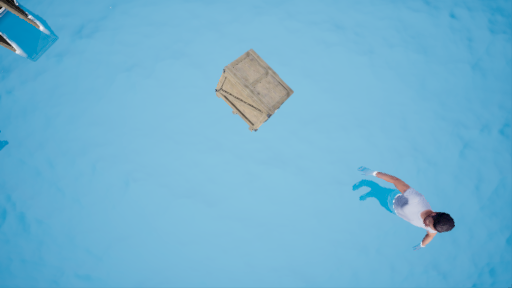person: (355, 168, 456, 245)
